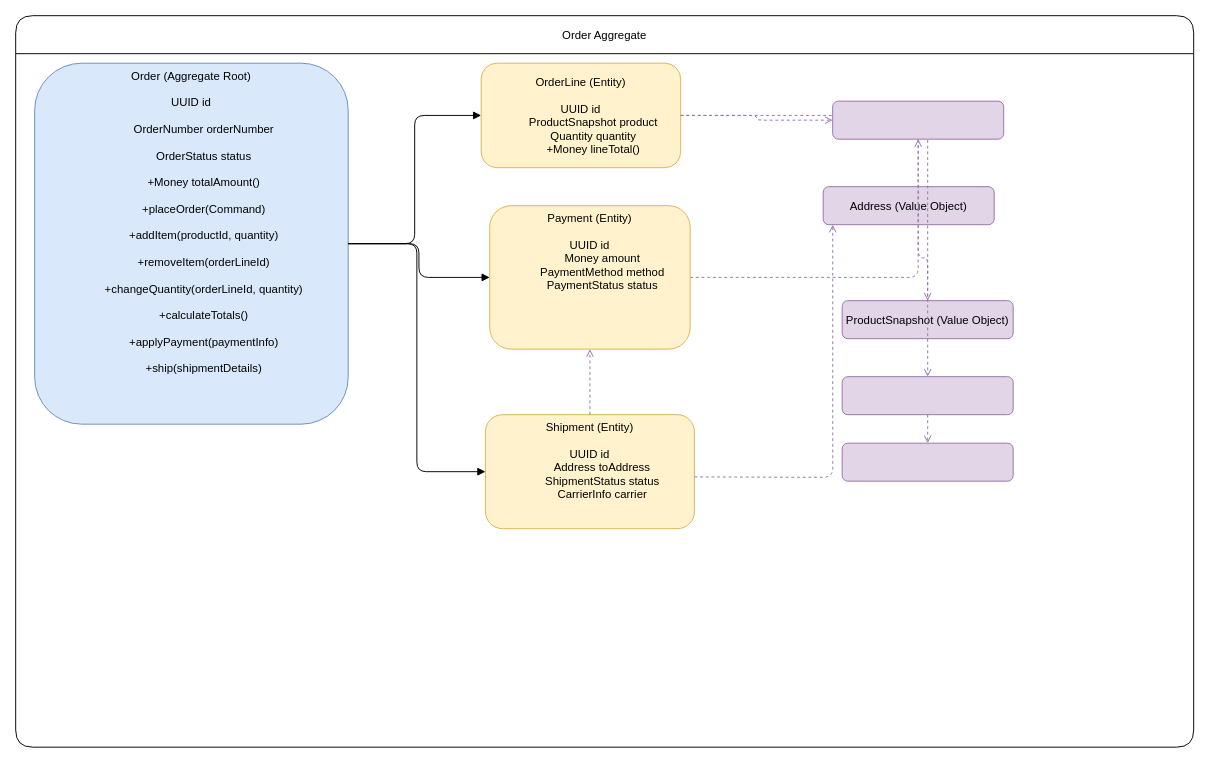
Image size: 1209x763. Some labels were removed from this diagram. The shapes that lost their labels are listed below. From the top down, each one's box as (x1, y1, x2, y2) in pixels, then its label:
(832, 100, 1004, 139): Money (Value Object)
(841, 376, 1013, 415): OrderNumber (Value Object)
(841, 442, 1013, 481): Quantity (Value Object)
